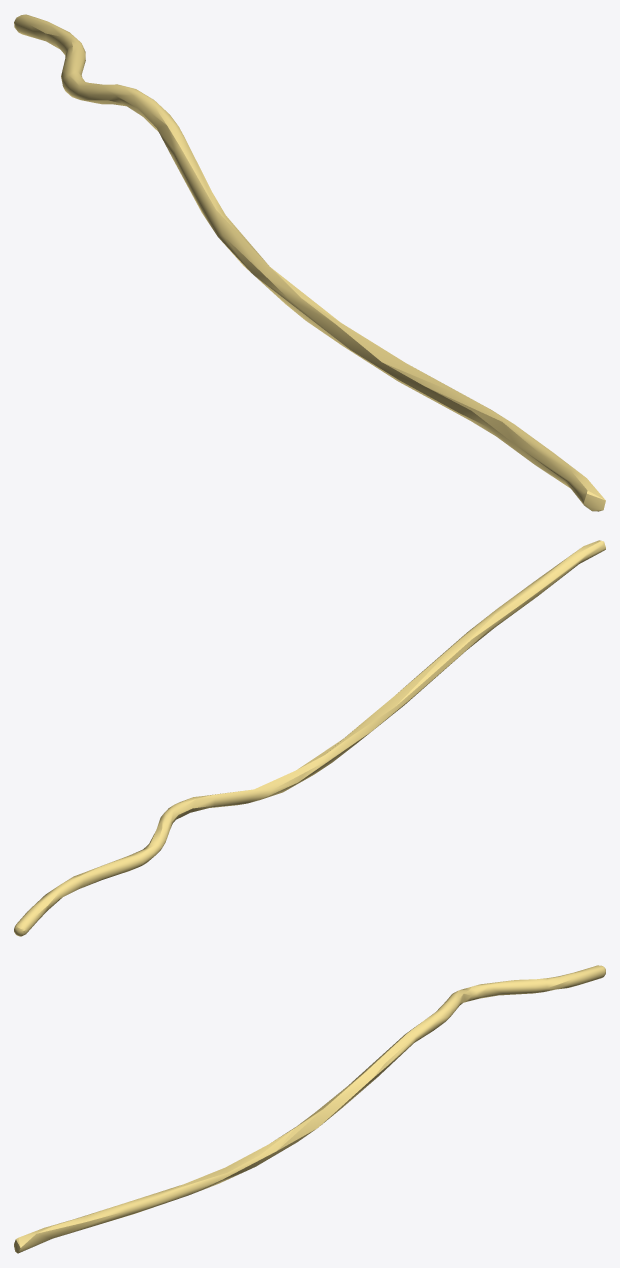
File: fma52670_fj3913.glb
The picture shows the model from 3 angles, top to bottom: view 1: azimuth 30°, elevation 25°; view 2: azimuth 150°, elevation 25°; view 3: azimuth 330°, elevation 25°; orthographic projection. The views are drawn at different scales.
Parts seen in each view (by area): view 1: FMA52670_FJ3913; view 2: FMA52670_FJ3913; view 3: FMA52670_FJ3913.
Part boxes in pixels (x1,y1,x2,y2): FMA52670_FJ3913: (14,14,605,511); FMA52670_FJ3913: (14,540,605,936); FMA52670_FJ3913: (14,965,605,1253).
Size of the model in its own units: 0.00651 by 0.00384 by 0.0505.
